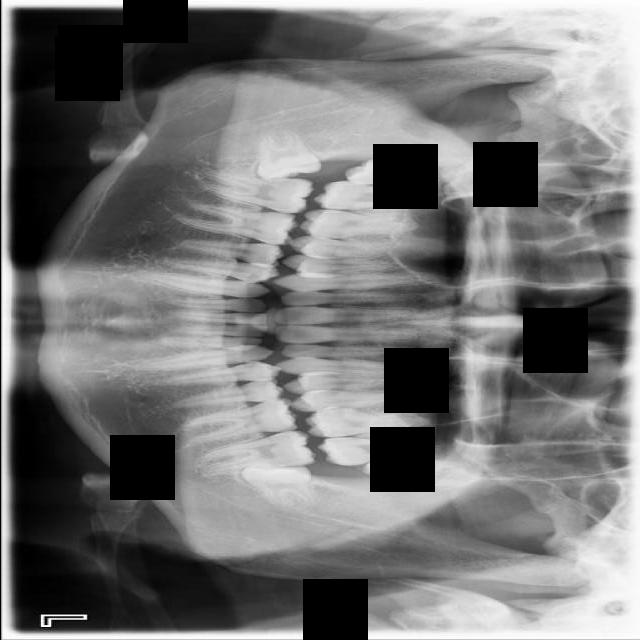3M ESPE Implant: (344, 156, 443, 192)
73: (56, 604, 66, 610)
BioHorizons Implant: (320, 437, 451, 466)
BioLife Implant: (359, 452, 469, 488)
Biomet 3i Implant: (240, 459, 318, 508)
Blue Sky Bio Implant: (194, 427, 317, 485)
Caries: (311, 176, 441, 219)
Implant: (196, 168, 314, 216)
Keystone Dental Implant: (253, 123, 321, 184)
